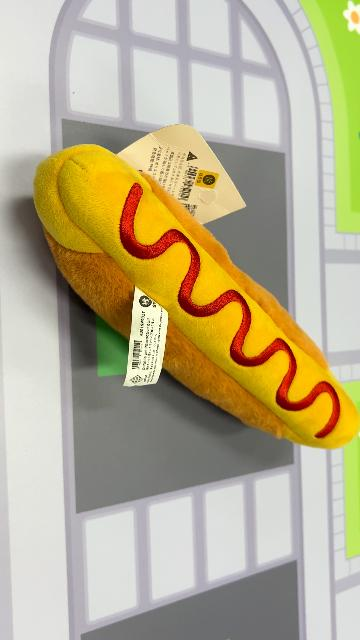hotdog: (32, 142, 358, 452)
